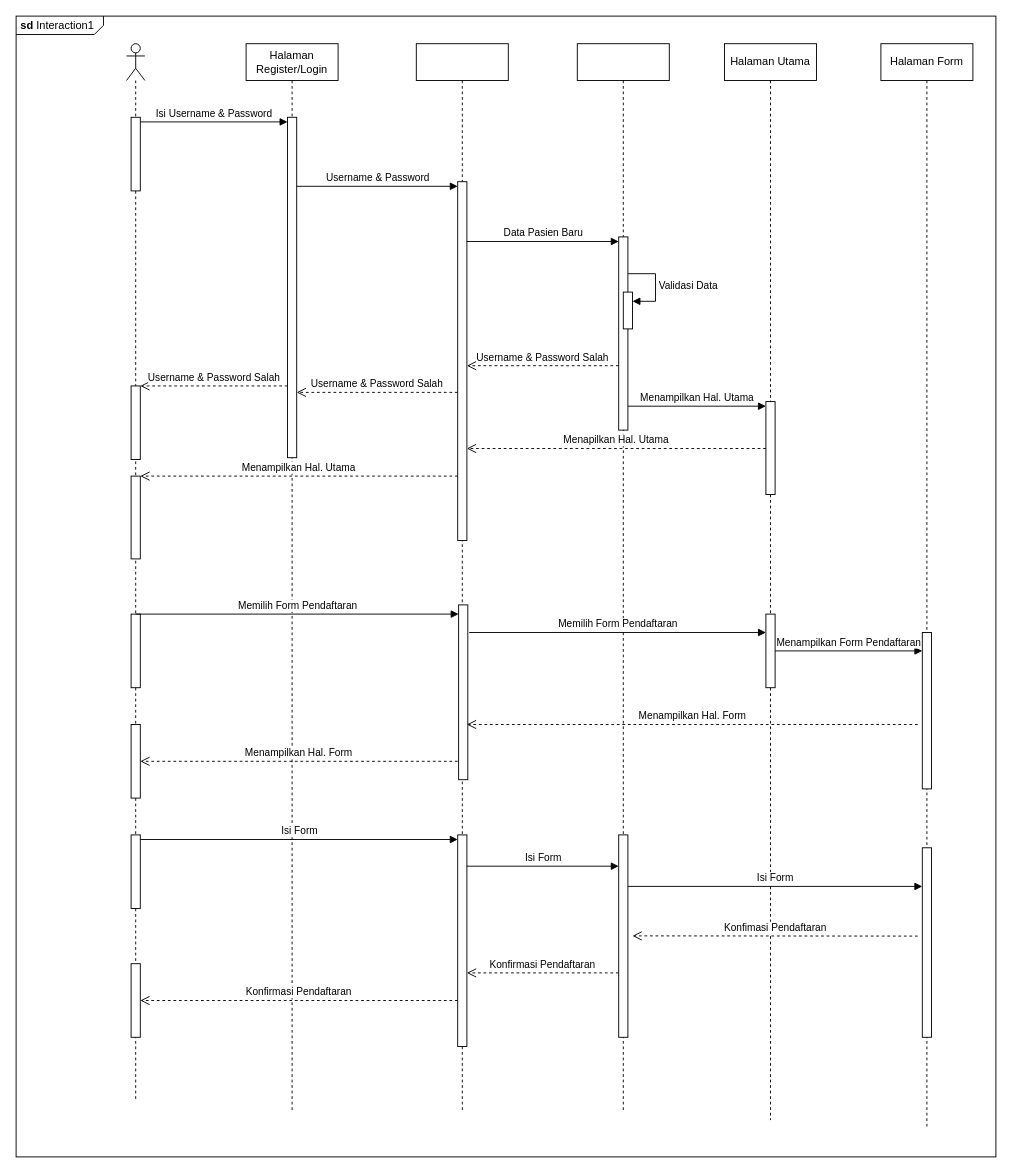
Image size: 1012x1173. Some labels were removed from this diagram. The shapes that lost their labels are listed below. From the top down, each one's box as (x1, y1, x2, y2) in pixels, then its label:
(415, 43, 508, 1111): Sistem
(576, 43, 669, 1111): Database
